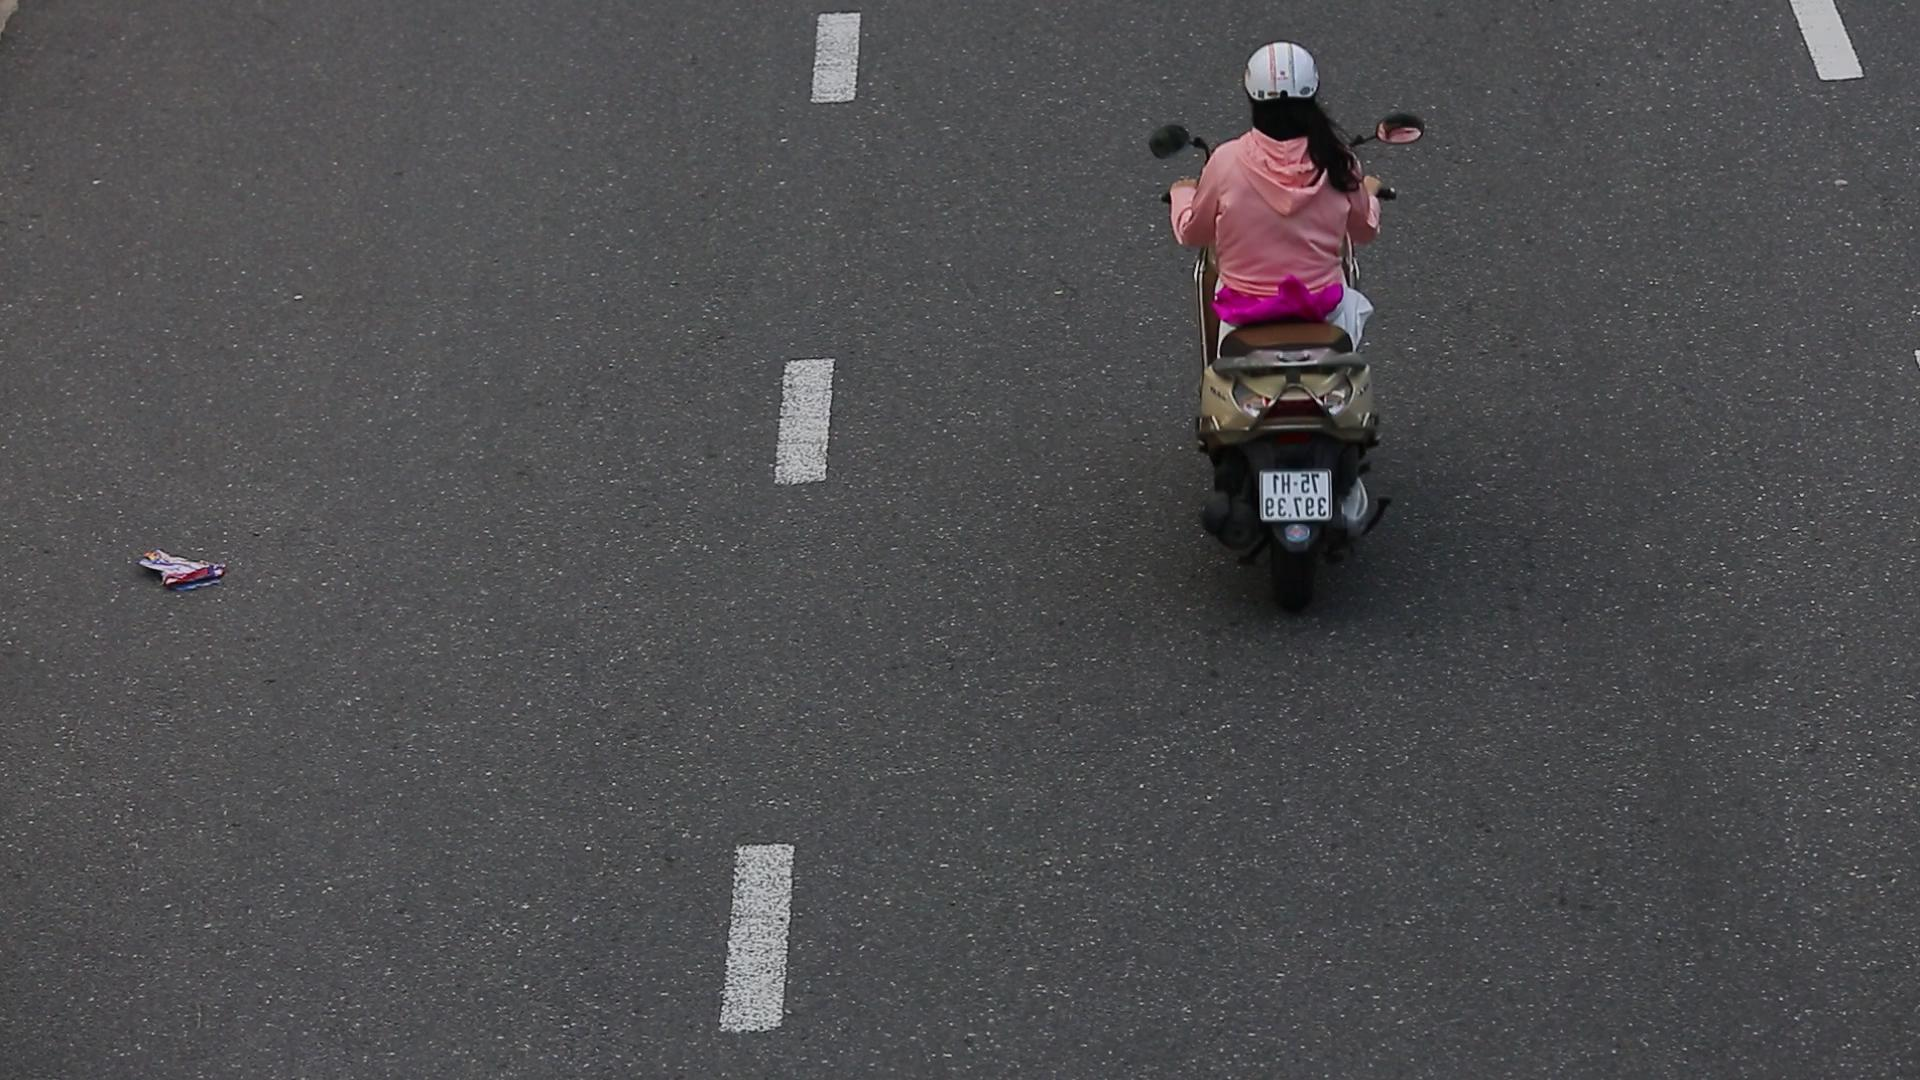motobike: (1135, 28, 1432, 626)
